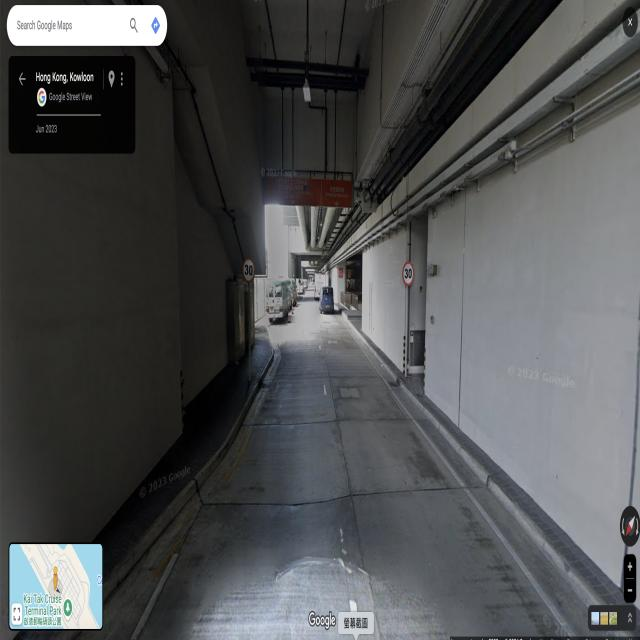Order-Sign: (402, 260, 414, 286), (243, 257, 255, 282)
